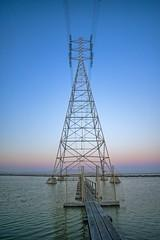power_tower: (49, 32, 119, 184)
